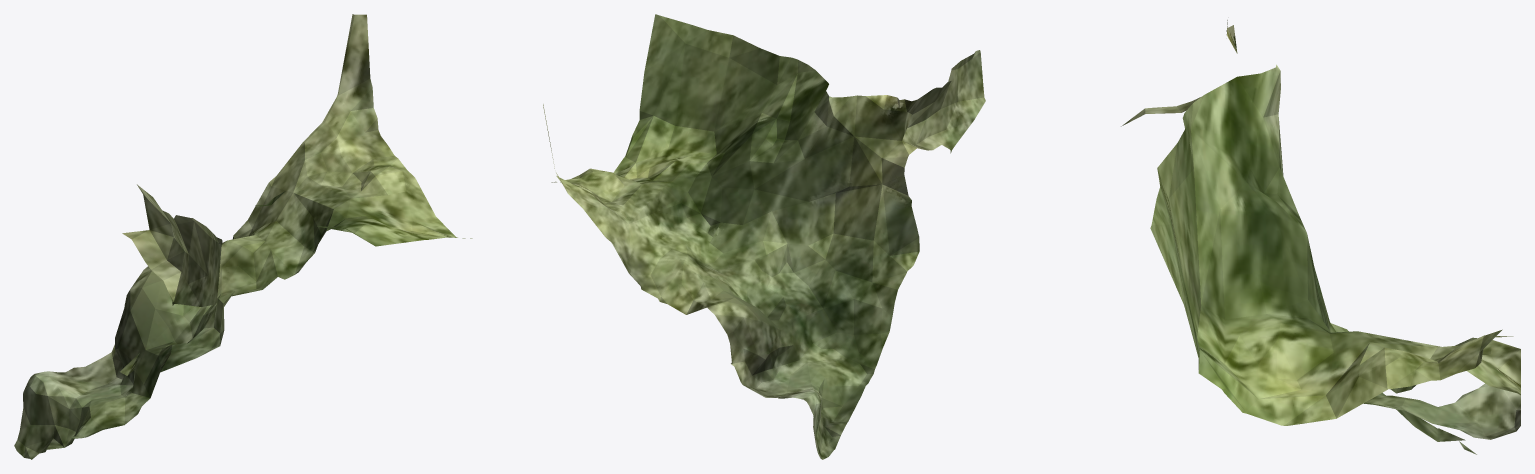
The picture shows the model from 3 angles, left to right: view 1: azimuth 30°, elevation 25°; view 2: azimuth 150°, elevation 25°; view 3: azimuth 270°, elevation 25°; orthographic projection. The views are drawn at different scales.
Bounding box in the file's own units: 2.95 × 2.86 × 2.95.
Materials: 3 (3 with a texture image).
